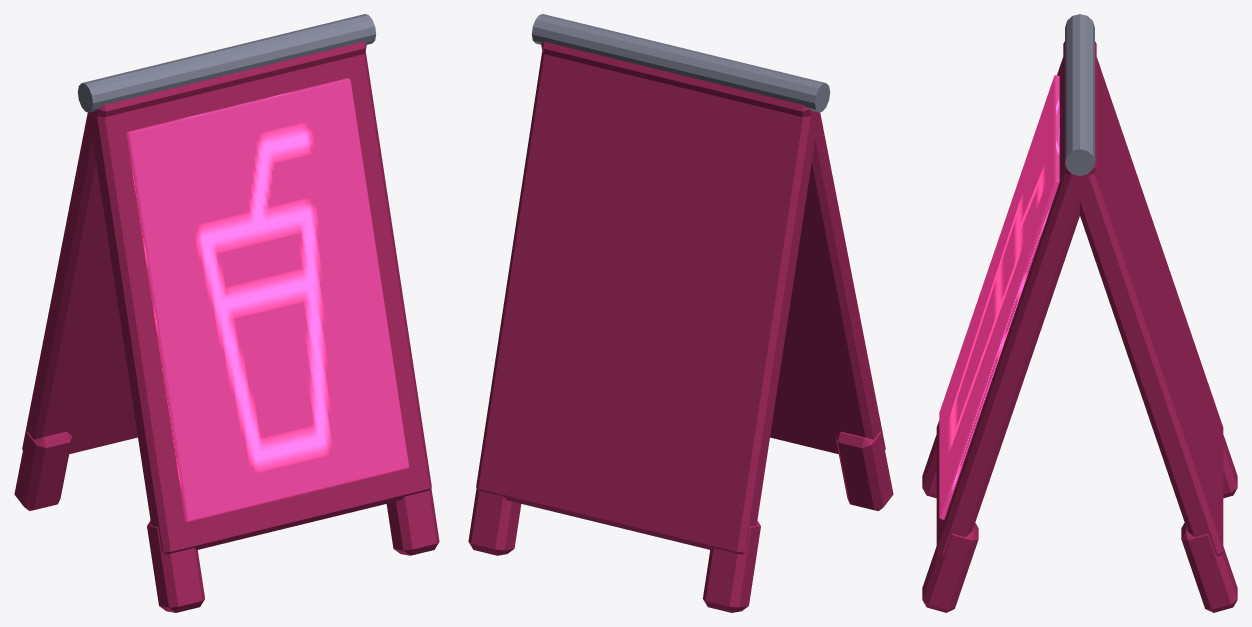
File: menu-board.glb
The picture shows the model from 3 angles, left to right: view 1: azimuth 30°, elevation 25°; view 2: azimuth 150°, elevation 25°; view 3: azimuth 270°, elevation 25°; orthographic projection. The views are drawn at different scales.
Parts seen in each view (by area): view 1: Menu_face, Board, Board.001, Hinge, Foot.002, Foot, Foot.001; view 2: Board.001, Board, Hinge, Foot, Foot.002, Foot.003; view 3: Board.001, Menu_face, Board, Hinge, Foot.001, Foot.003, Foot, Foot.002.
Boxes of the visible parts, x1,y1,x2,y2 form: Menu_face: (126, 78, 409, 521); Board: (88, 51, 431, 554); Board.001: (22, 42, 366, 453); Hinge: (77, 14, 376, 112); Foot.002: (14, 431, 72, 510); Foot: (147, 520, 204, 612); Foot.001: (386, 488, 439, 555); Board.001: (476, 51, 815, 554); Board: (541, 42, 885, 453); Hinge: (531, 14, 830, 112); Foot: (835, 431, 893, 510); Foot.002: (703, 520, 760, 612); Foot.003: (468, 488, 521, 555); Board.001: (1063, 41, 1223, 556); Menu_face: (939, 75, 1059, 519); Board: (936, 41, 1096, 556); Hinge: (1065, 14, 1094, 175); Foot.001: (922, 523, 978, 612); Foot.003: (1181, 523, 1237, 612); Foot: (922, 435, 936, 498); Foot.002: (1223, 435, 1237, 498).
Size of the model in its own units: 0.58 by 0.9397 by 0.5721.
Materials: 2 (2 with a texture image).
